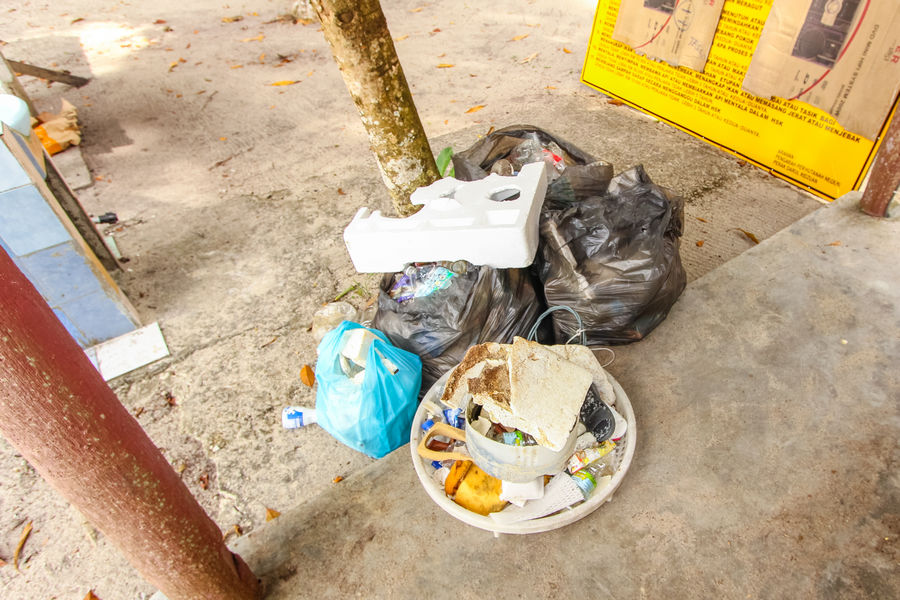plastic_bagwdw: (274, 319, 432, 493)
